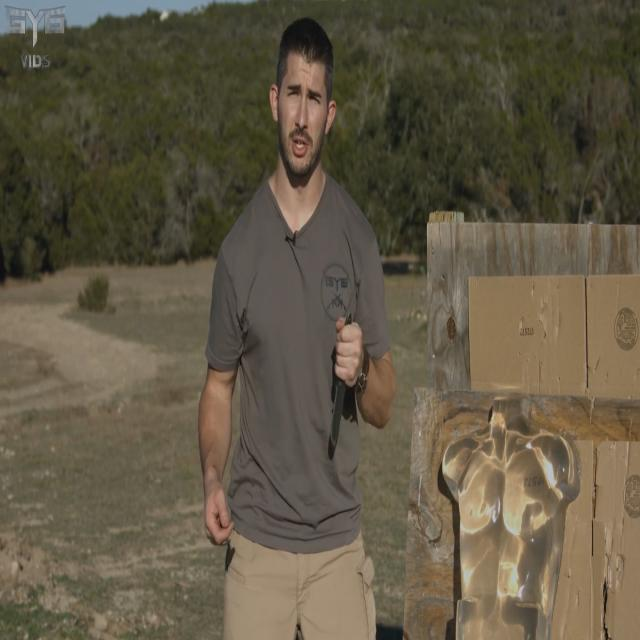knife: (331, 303, 355, 458)
